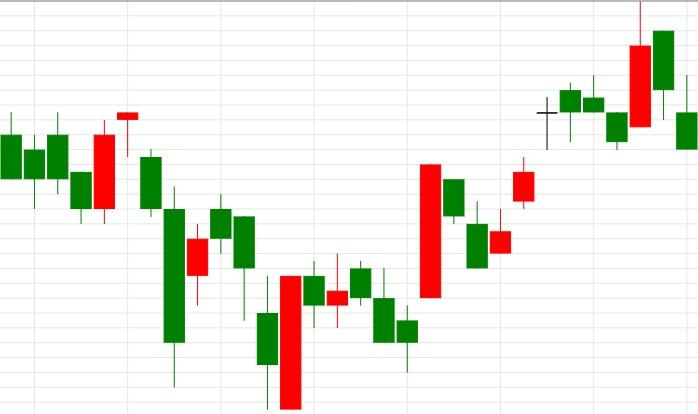bullish_engulfing_rise: (209, 194, 303, 410), (0, 111, 116, 224)
